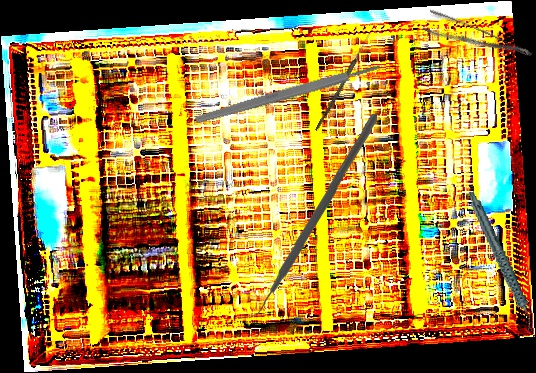Chopper: (234, 113, 381, 320)
Dressing Forceps: (421, 7, 534, 74)
Handpiece: (467, 185, 535, 338)
Scalpel Handle: (194, 61, 382, 126)
Surgical Spoon: (314, 32, 372, 133)
